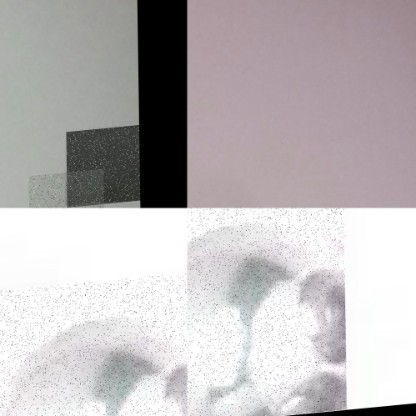ironball: (187, 208, 345, 415), (0, 275, 187, 415), (65, 132, 139, 208), (27, 175, 102, 208)
